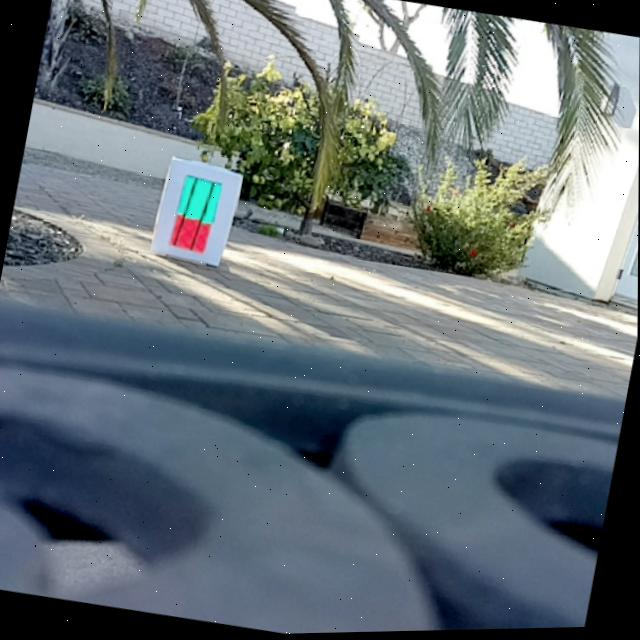led: (168, 174, 222, 256)
